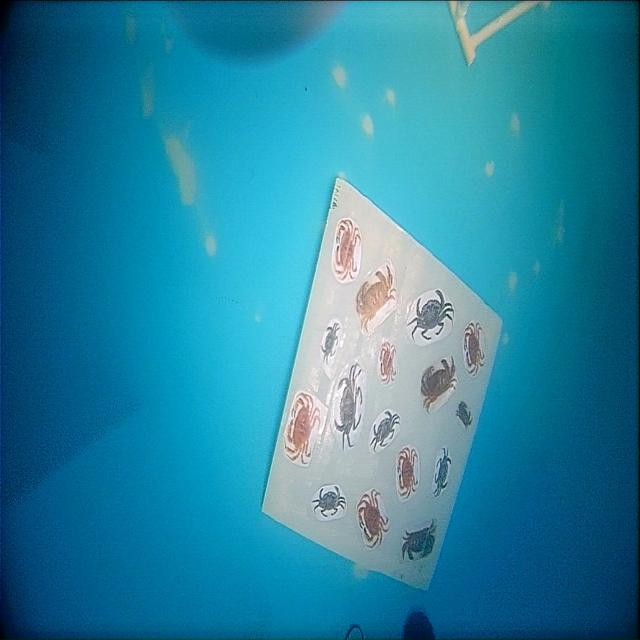GreenCrab: (334, 364, 363, 450), (408, 290, 453, 339), (370, 410, 400, 452), (312, 485, 346, 516), (321, 322, 339, 361)
